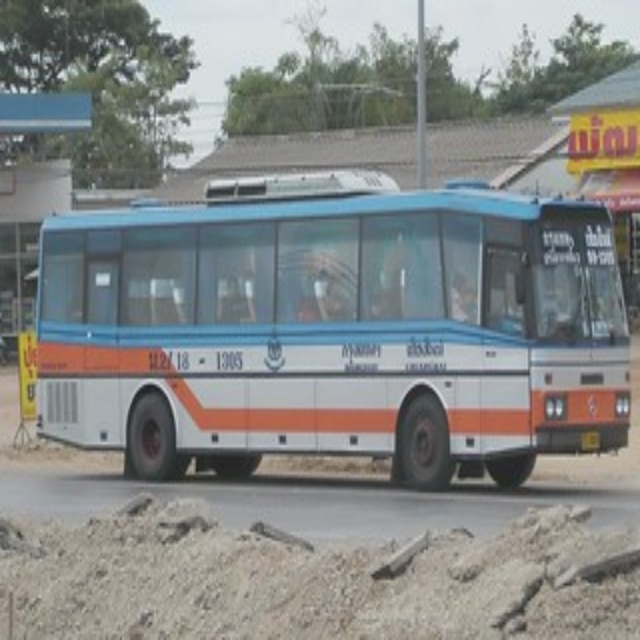Bus: (32, 192, 630, 490)
